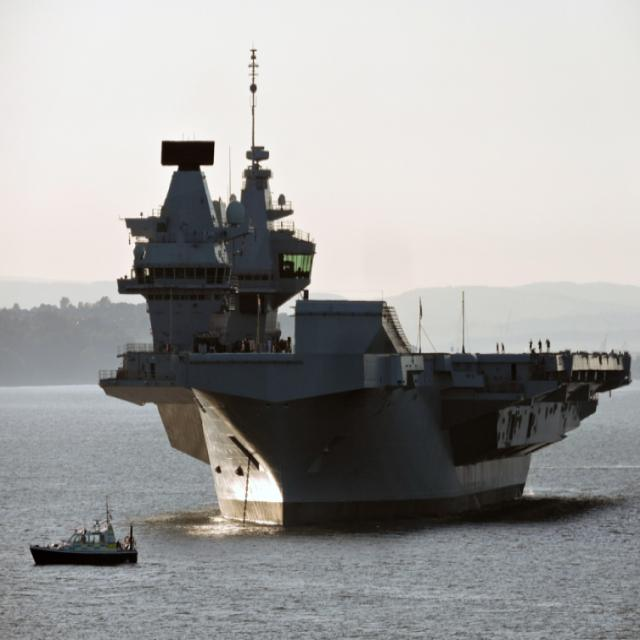Portanaves: (100, 38, 640, 536)
